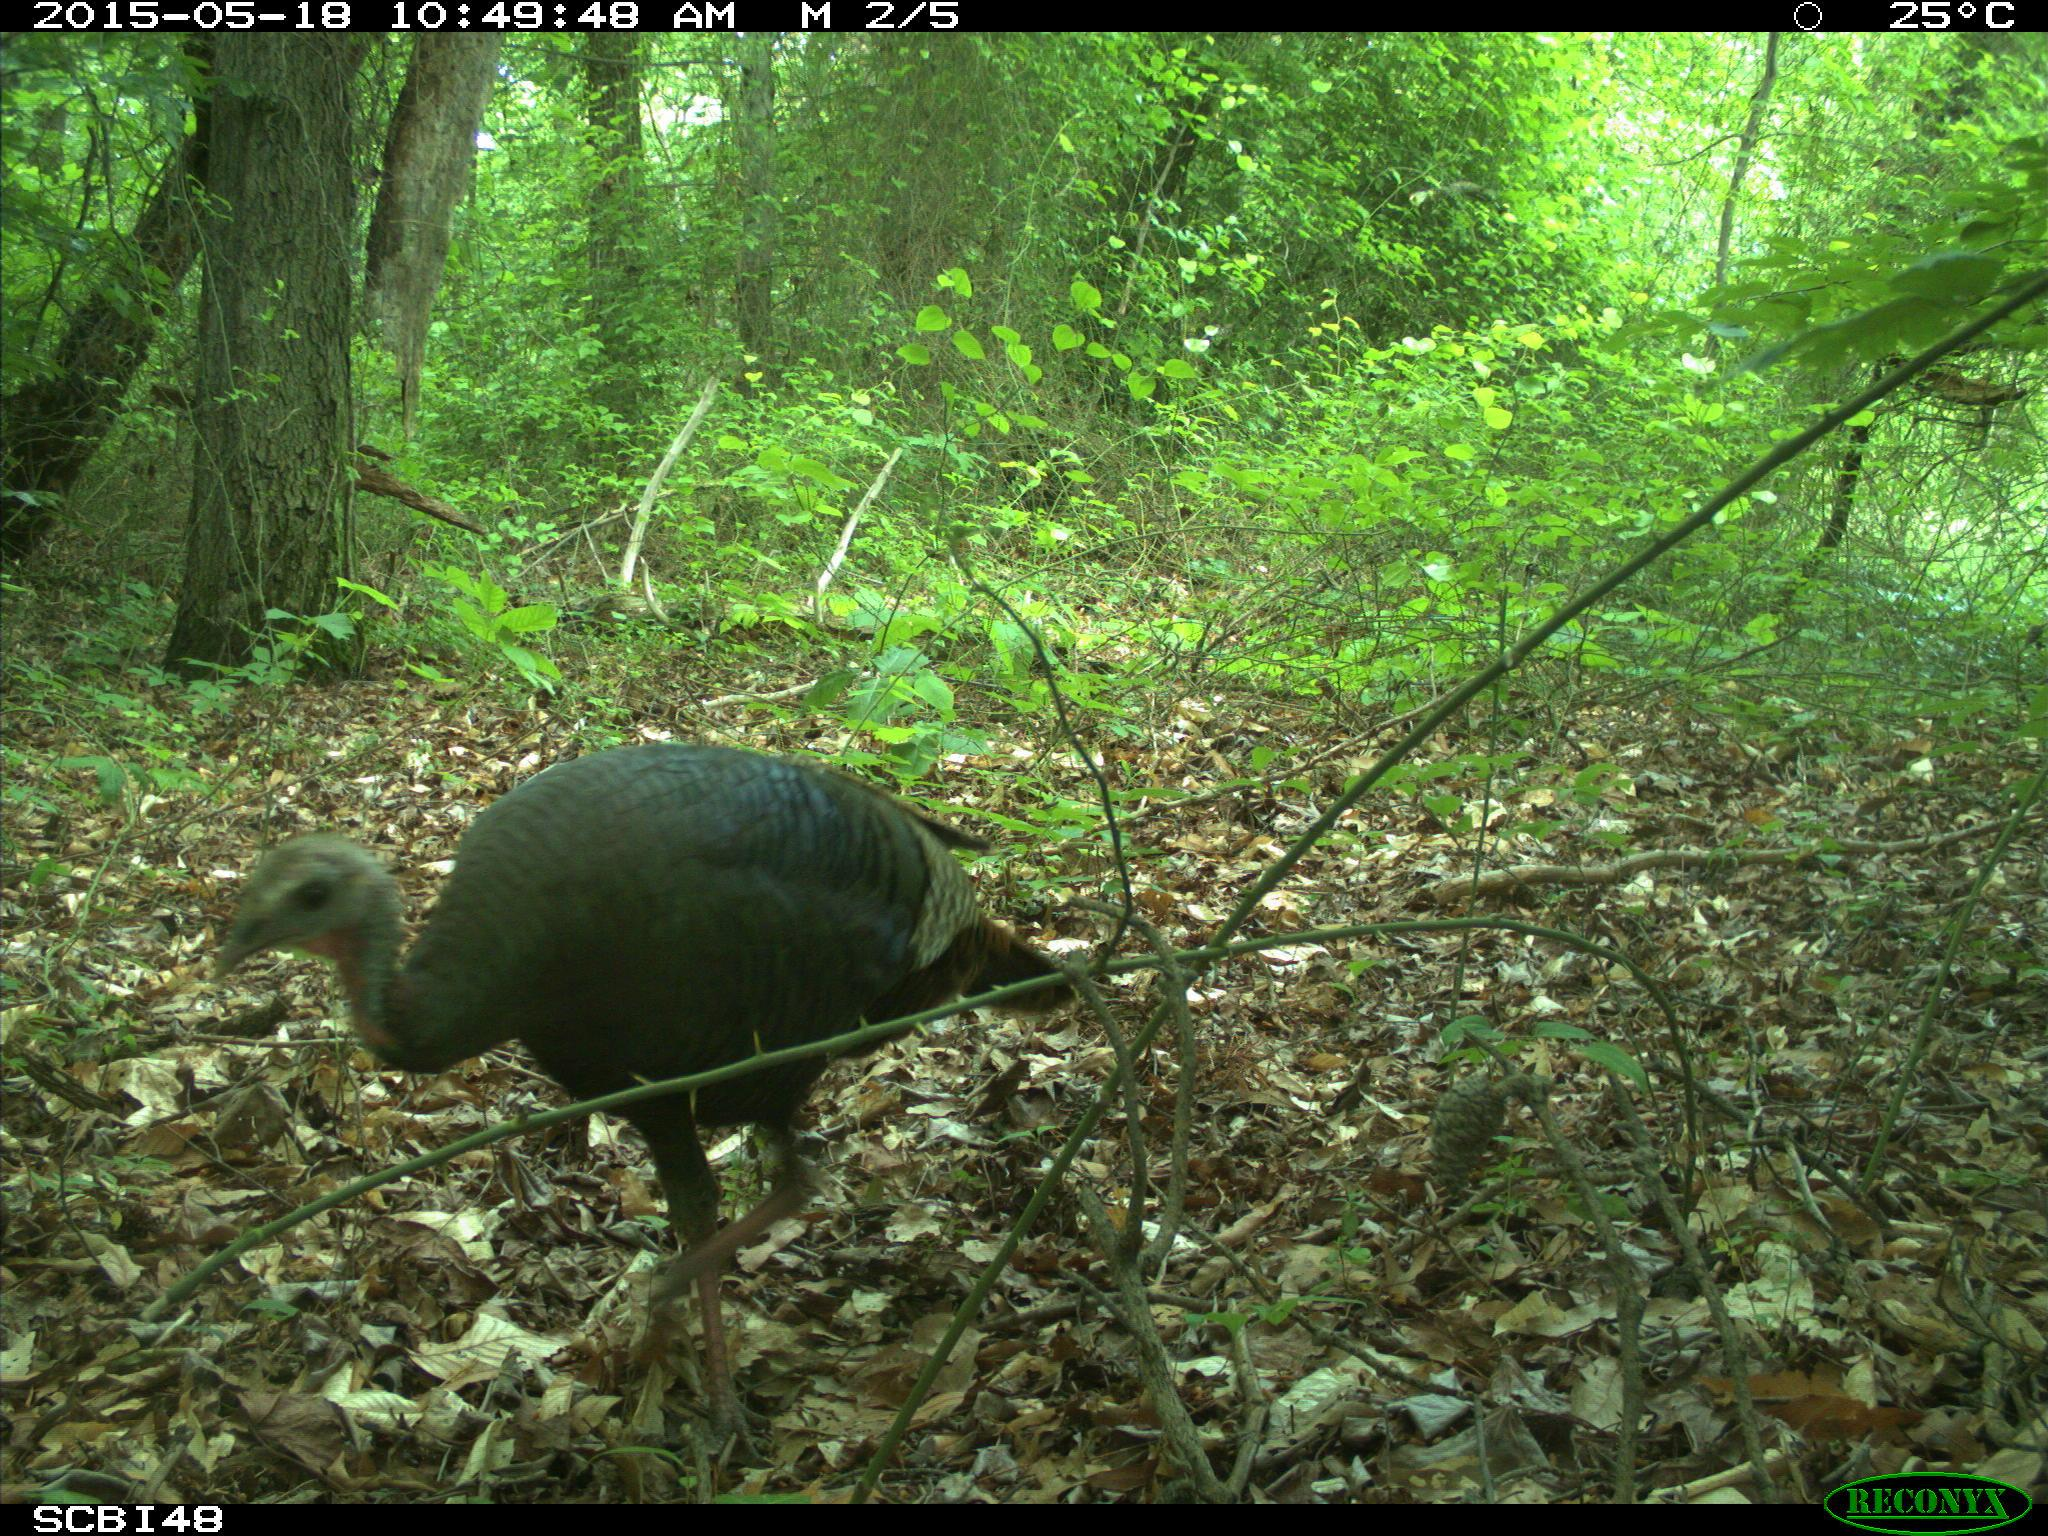Animal: (213, 742, 1076, 1475)
